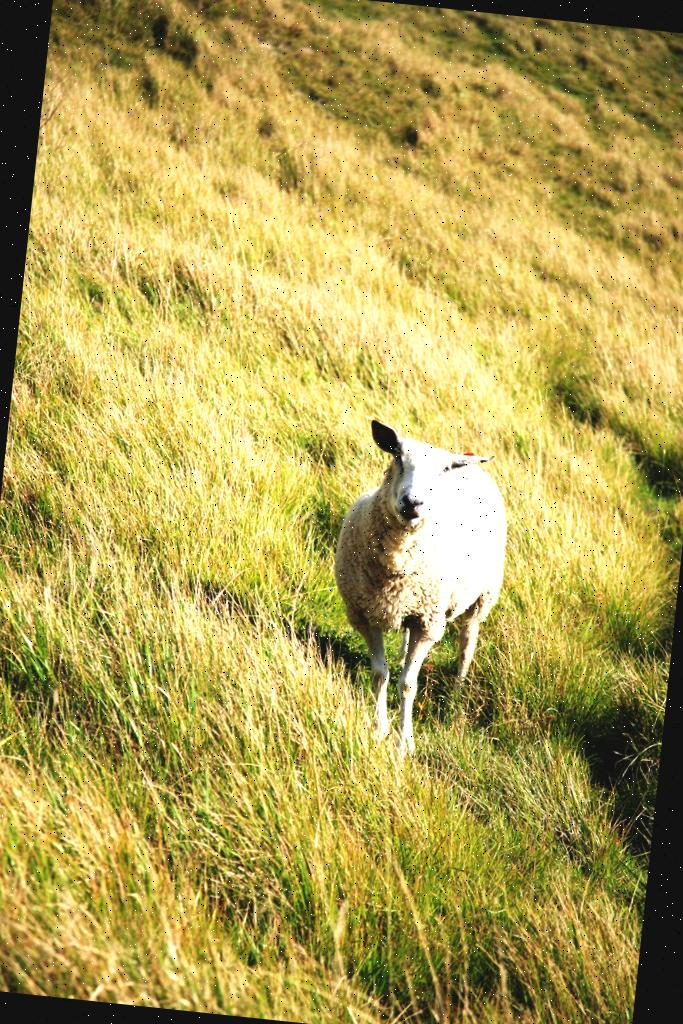Sheep: (316, 418, 521, 764)
